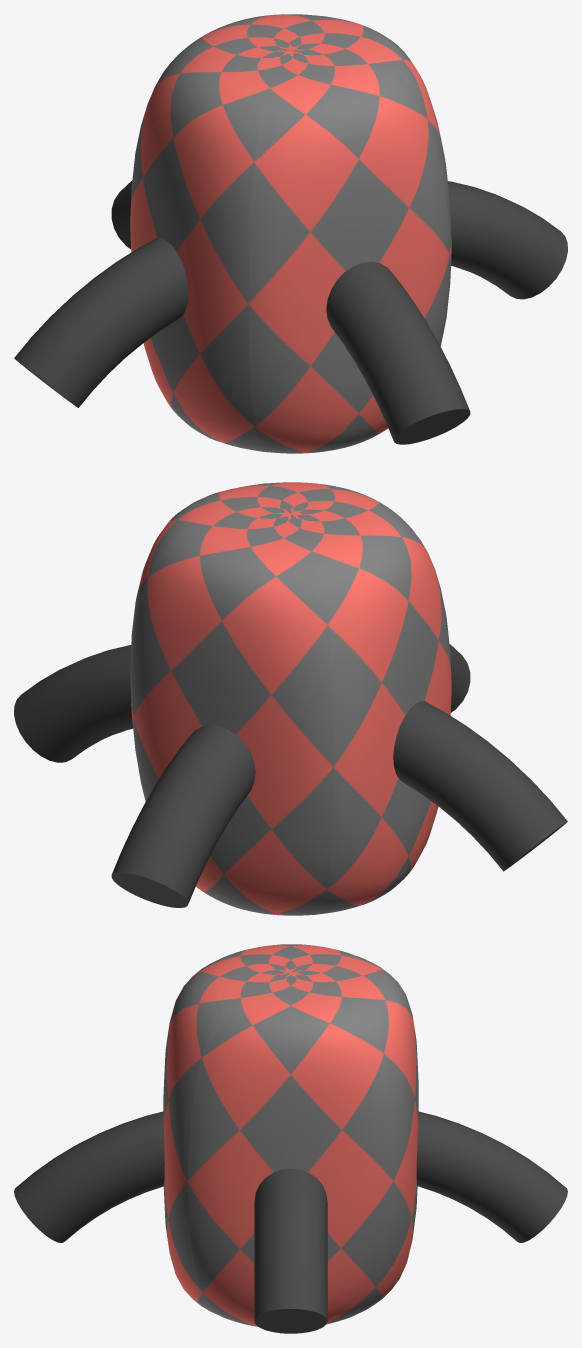
The model's file is Body(Oblong)+Colour(More_Red)+Arms(Bent_Down)+Pattern(Diamond).fbx.
3 views of the same model, one above another, from view 1: azimuth 30°, elevation 25°; view 2: azimuth 150°, elevation 25°; view 3: azimuth 270°, elevation 25° (orthographic). The views are drawn at different scales.
Visible parts, largest first — view 1: Body(Oblong)+Colour(More_Red)+Arms(Bent_Down)+Pattern(Diamon (×5); view 2: Body(Oblong)+Colour(More_Red)+Arms(Bent_Down)+Pattern(Diamon (×5); view 3: Body(Oblong)+Colour(More_Red)+Arms(Bent_Down)+Pattern(Diamon (×4).
Boxes of the visible parts, left/top/right/bottom form: Body(Oblong)+Colour(More_Red)+Arms(Bent_Down)+Pattern(Diamon (×5): left=14, top=14, right=567, bottom=453; Body(Oblong)+Colour(More_Red)+Arms(Bent_Down)+Pattern(Diamon (×5): left=14, top=482, right=567, bottom=915; Body(Oblong)+Colour(More_Red)+Arms(Bent_Down)+Pattern(Diamon (×4): left=14, top=944, right=567, bottom=1333.
Bounding box in the file's own units: 60.67 × 40 × 60.67.
Materials: 2 (2 with a texture image).
